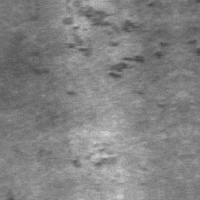rolled-in_scale: (59, 0, 169, 85), (67, 140, 125, 173)
